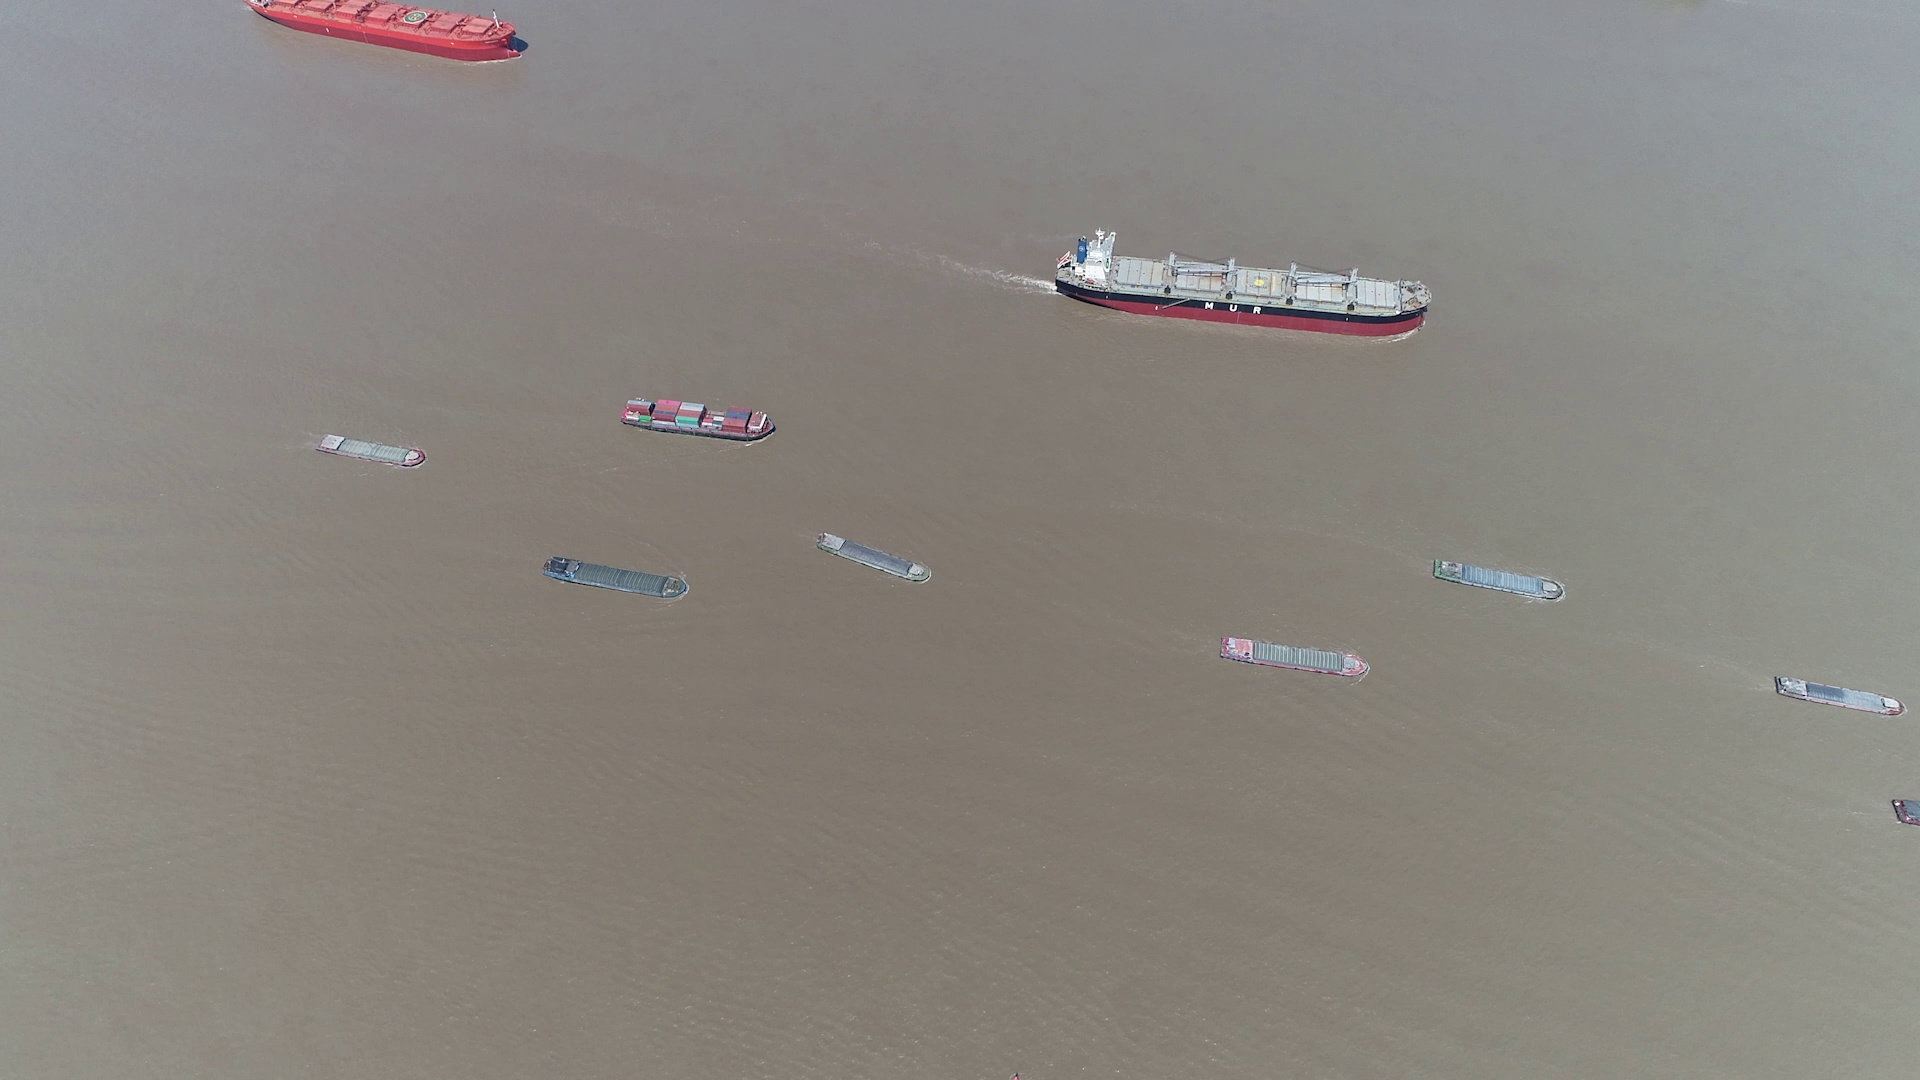ship: (1058, 233, 1432, 335), (248, 0, 526, 63), (621, 398, 775, 440), (1217, 636, 1369, 676), (545, 556, 688, 599), (816, 533, 930, 585), (1429, 560, 1567, 603), (1774, 674, 1905, 717), (316, 433, 427, 467), (1891, 800, 1919, 829)
